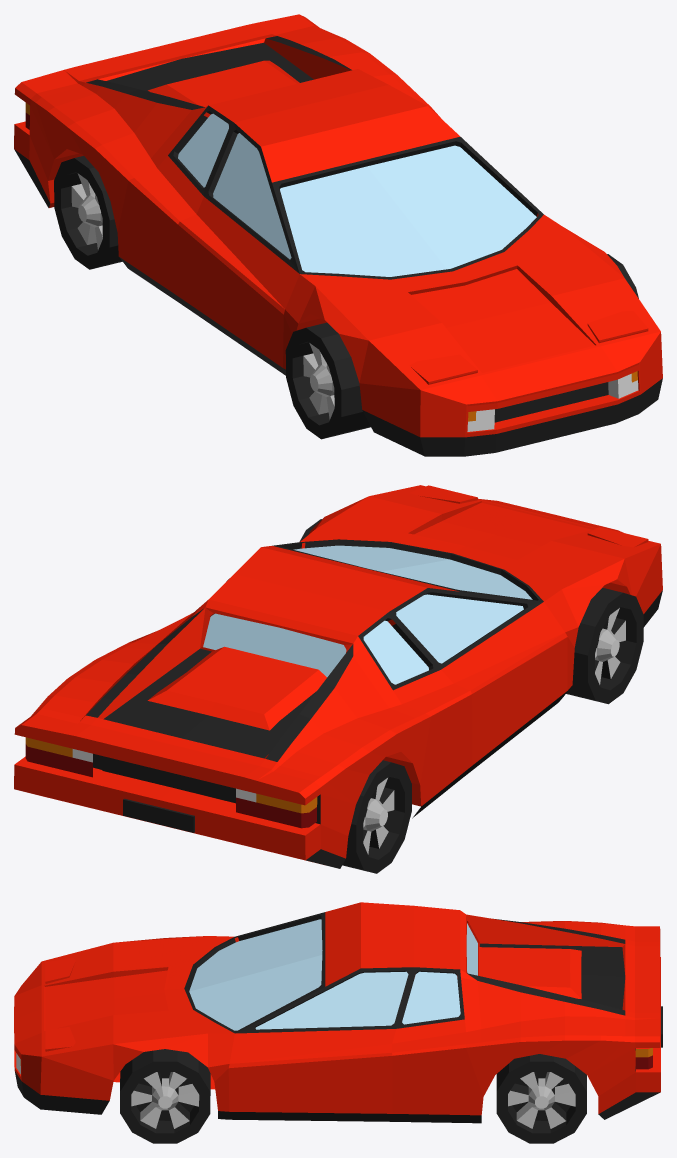
The model's file is Ferarri.glb.
The picture shows the model from 3 angles, top to bottom: view 1: azimuth 30°, elevation 25°; view 2: azimuth 150°, elevation 25°; view 3: azimuth 270°, elevation 25°; orthographic projection. The views are drawn at different scales.
Visible parts, largest first — view 1: Car, FrontWheels, BackWheels; view 2: Car, FrontWheels, BackWheels; view 3: Car, FrontWheels, BackWheels.
Part boxes in pixels (x1,y1,x2,y2): Car: [14, 14, 662, 456]; FrontWheels: [285, 254, 638, 439]; BackWheels: [54, 156, 122, 269]; Car: [14, 485, 662, 868]; FrontWheels: [299, 519, 643, 704]; BackWheels: [342, 760, 411, 873]; Car: [14, 902, 662, 1123]; FrontWheels: [120, 1049, 210, 1143]; BackWheels: [496, 1054, 586, 1143].
Bounding box in the file's own units: 3.73 × 2.15 × 8.54.
Materials: 1 (1 with a texture image).
